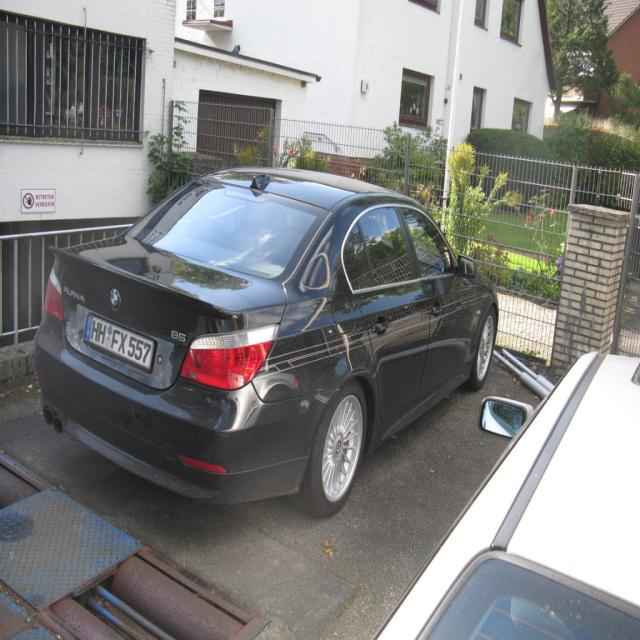car: (33, 164, 499, 517)
